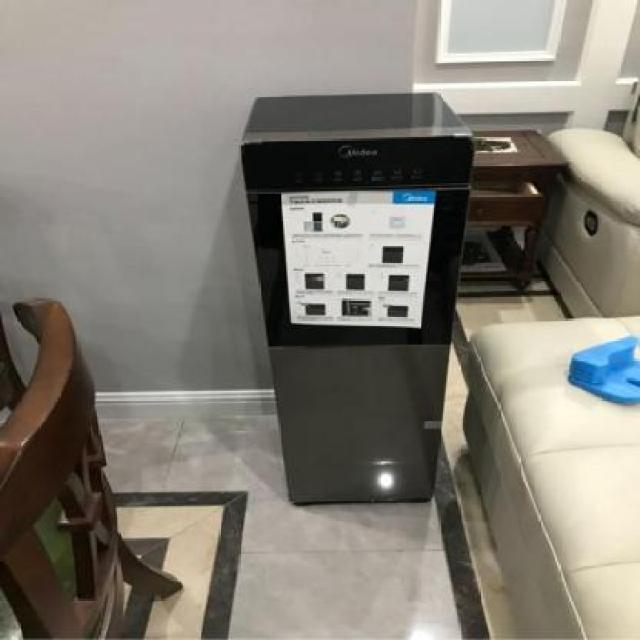cooler: (237, 86, 483, 513)
